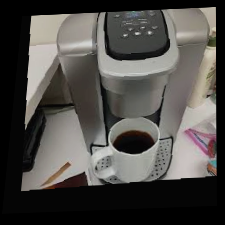10oz: (133, 31, 143, 37)
12oz: (145, 30, 155, 36)
4oz: (126, 26, 134, 31)
6oz: (138, 25, 146, 30)
8oz: (119, 32, 130, 38)
